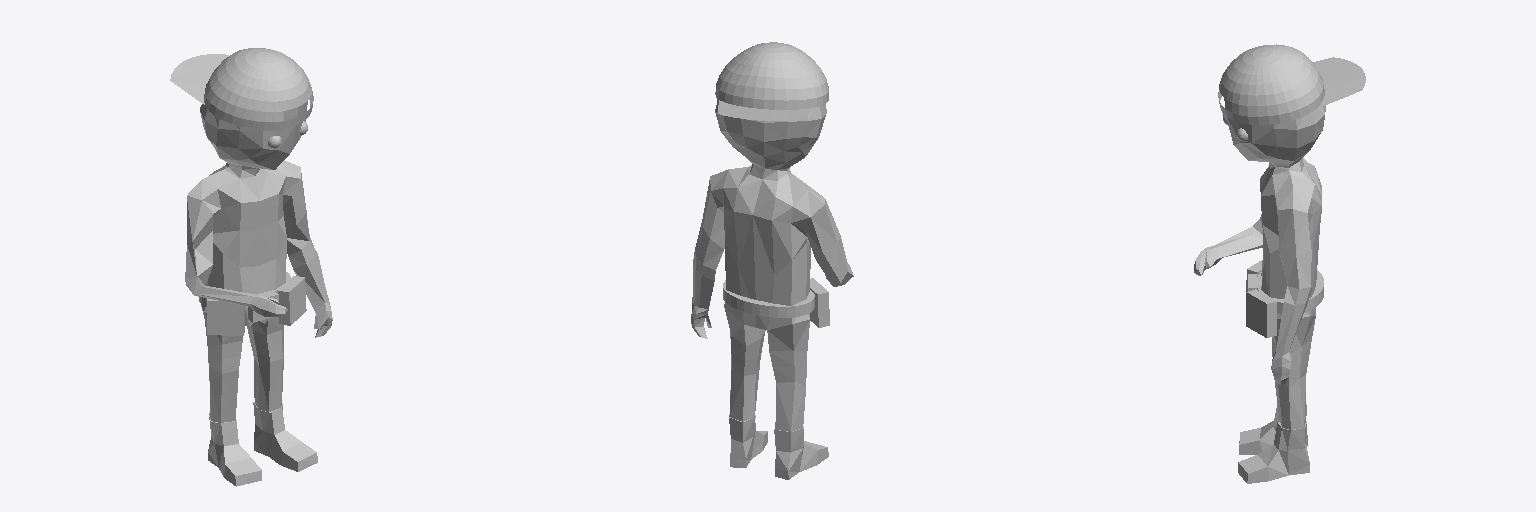
File: Main_Character_Paint_9.obj
3 views of the same model, side by side, from view 1: azimuth 30°, elevation 25°; view 2: azimuth 150°, elevation 25°; view 3: azimuth 270°, elevation 25° (orthographic).
Visible parts, largest first — view 1: Main_Character_Test.003_Main_Character_Test.004; view 2: Main_Character_Test.003_Main_Character_Test.004; view 3: Main_Character_Test.003_Main_Character_Test.004.
Boxes of the visible parts, <box> form: Main_Character_Test.003_Main_Character_Test.004: <box>170,48,332,486</box>; Main_Character_Test.003_Main_Character_Test.004: <box>691,42,853,479</box>; Main_Character_Test.003_Main_Character_Test.004: <box>1194,44,1365,483</box>.
Size of the model in its own units: 1.52 by 3.96 by 1.5.